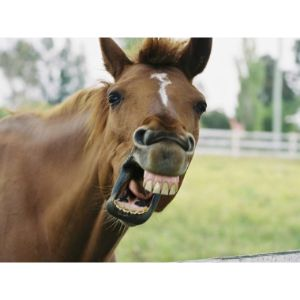horse: (4, 41, 208, 260)
